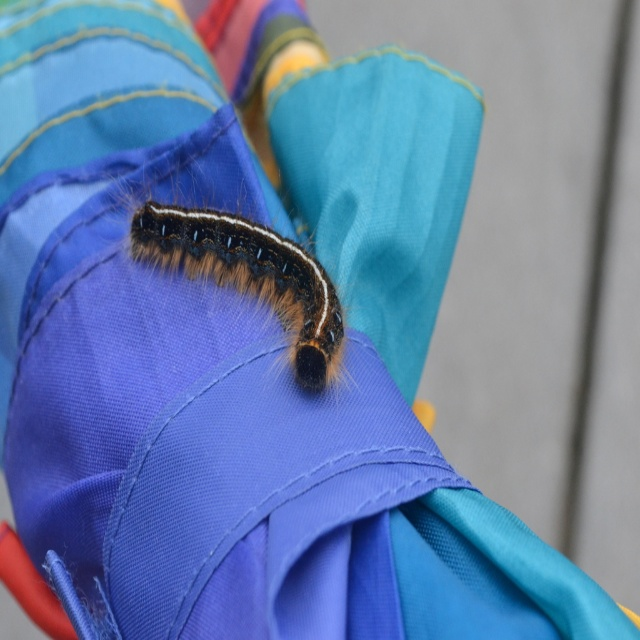Caterpillar: (101, 144, 370, 414)
